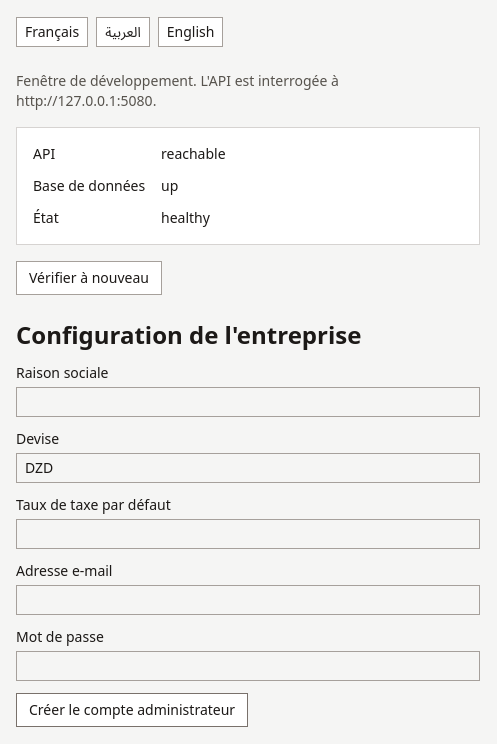
Scenario: App › starts in French and switches Arabic to a right-to-left layout
The image size is (497, 744).
Check: the heading "Configuration de l'entreprise" is shown, box [16, 318, 361, 351]
Click the button "العربية" at (123, 32), box [96, 17, 150, 47]
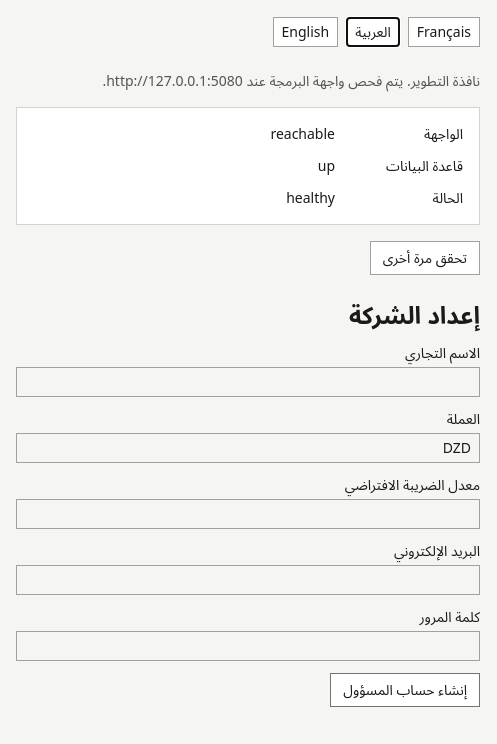
Check: the heading "إعداد الشركة" is shown, box [349, 298, 480, 331]
